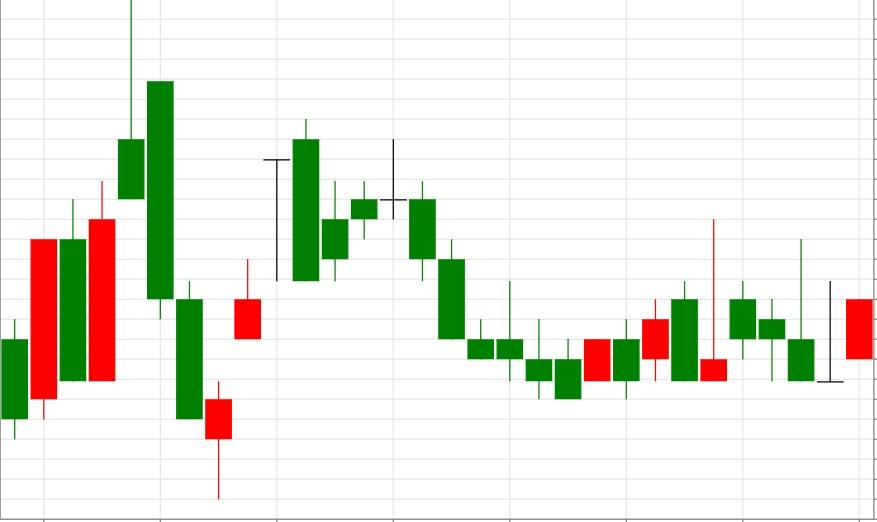shooting_star_fall: (0, 0, 145, 438)
three_black_crows_fall: (292, 118, 495, 360)
